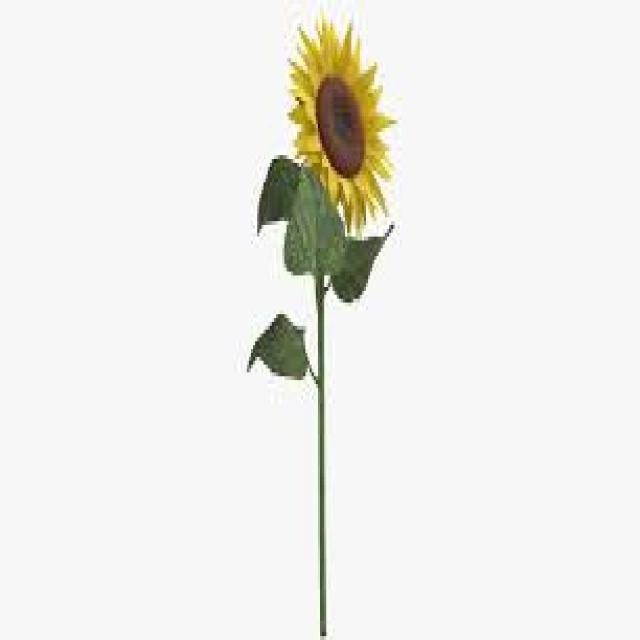sunflower: (281, 0, 402, 241)
